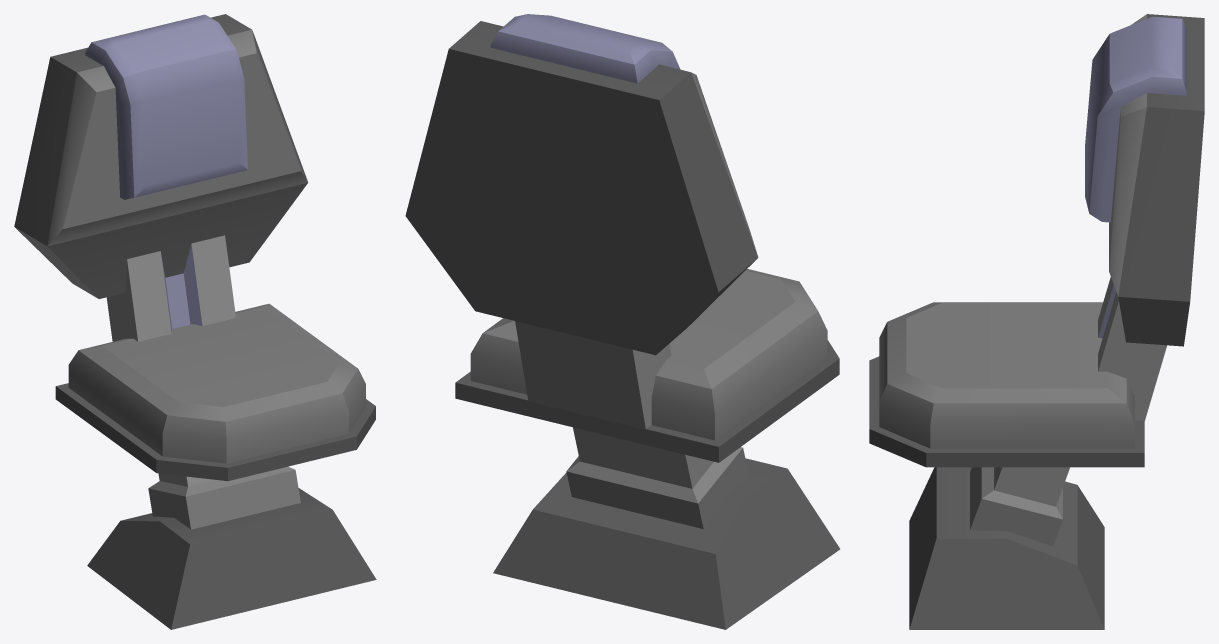
File: Chaise.fbx
3 renders of one model, left to right at view 1: azimuth 30°, elevation 25°; view 2: azimuth 150°, elevation 25°; view 3: azimuth 270°, elevation 25°, orthographic. The views are drawn at different scales.
Parts seen in each view (by area): view 1: Chaise; view 2: Chaise; view 3: Chaise.
Boxes of the visible parts, <box> form: Chaise: <box>14,14,376,629</box>; Chaise: <box>405,14,840,629</box>; Chaise: <box>869,14,1204,629</box>.
Size of the model in its own units: 77.83 by 141 by 79.77.
